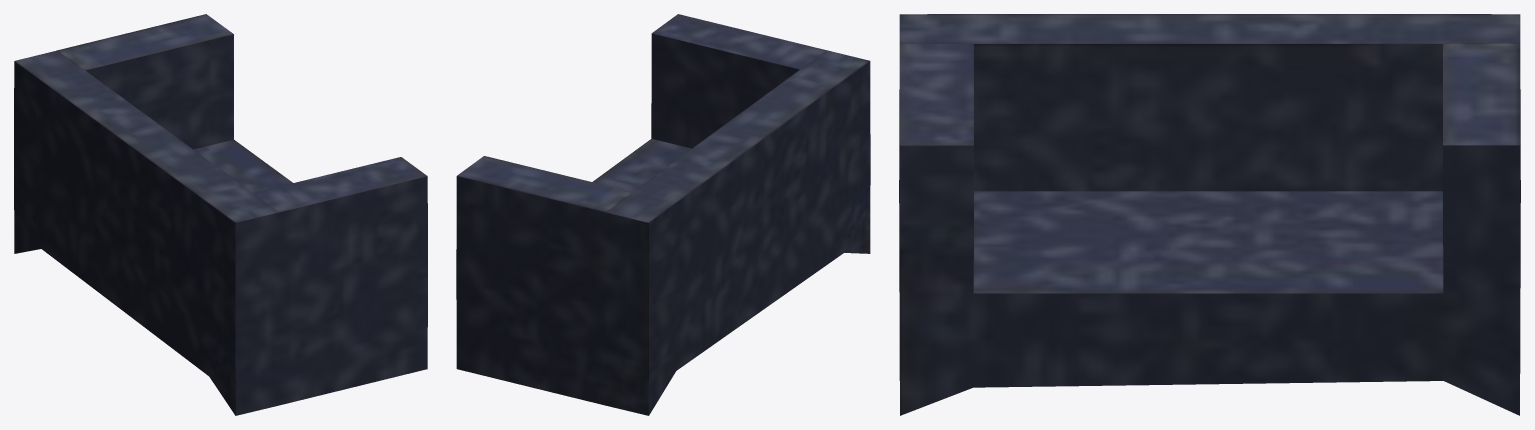
File: couch.dae
3 views of the same model, side by side, from view 1: azimuth 30°, elevation 25°; view 2: azimuth 150°, elevation 25°; view 3: azimuth 270°, elevation 25° (orthographic). The views are drawn at different scales.
Visible parts, largest first — view 1: Cube; view 2: Cube; view 3: Cube.
Part boxes in pixels (x1,y1,x2,y2): Cube: (14, 14, 427, 415); Cube: (456, 14, 870, 415); Cube: (899, 14, 1520, 415).
Bounding box in the file's own units: 0.3059 × 0.6097 × 0.2929.
Materials: 1 (1 with a texture image).
